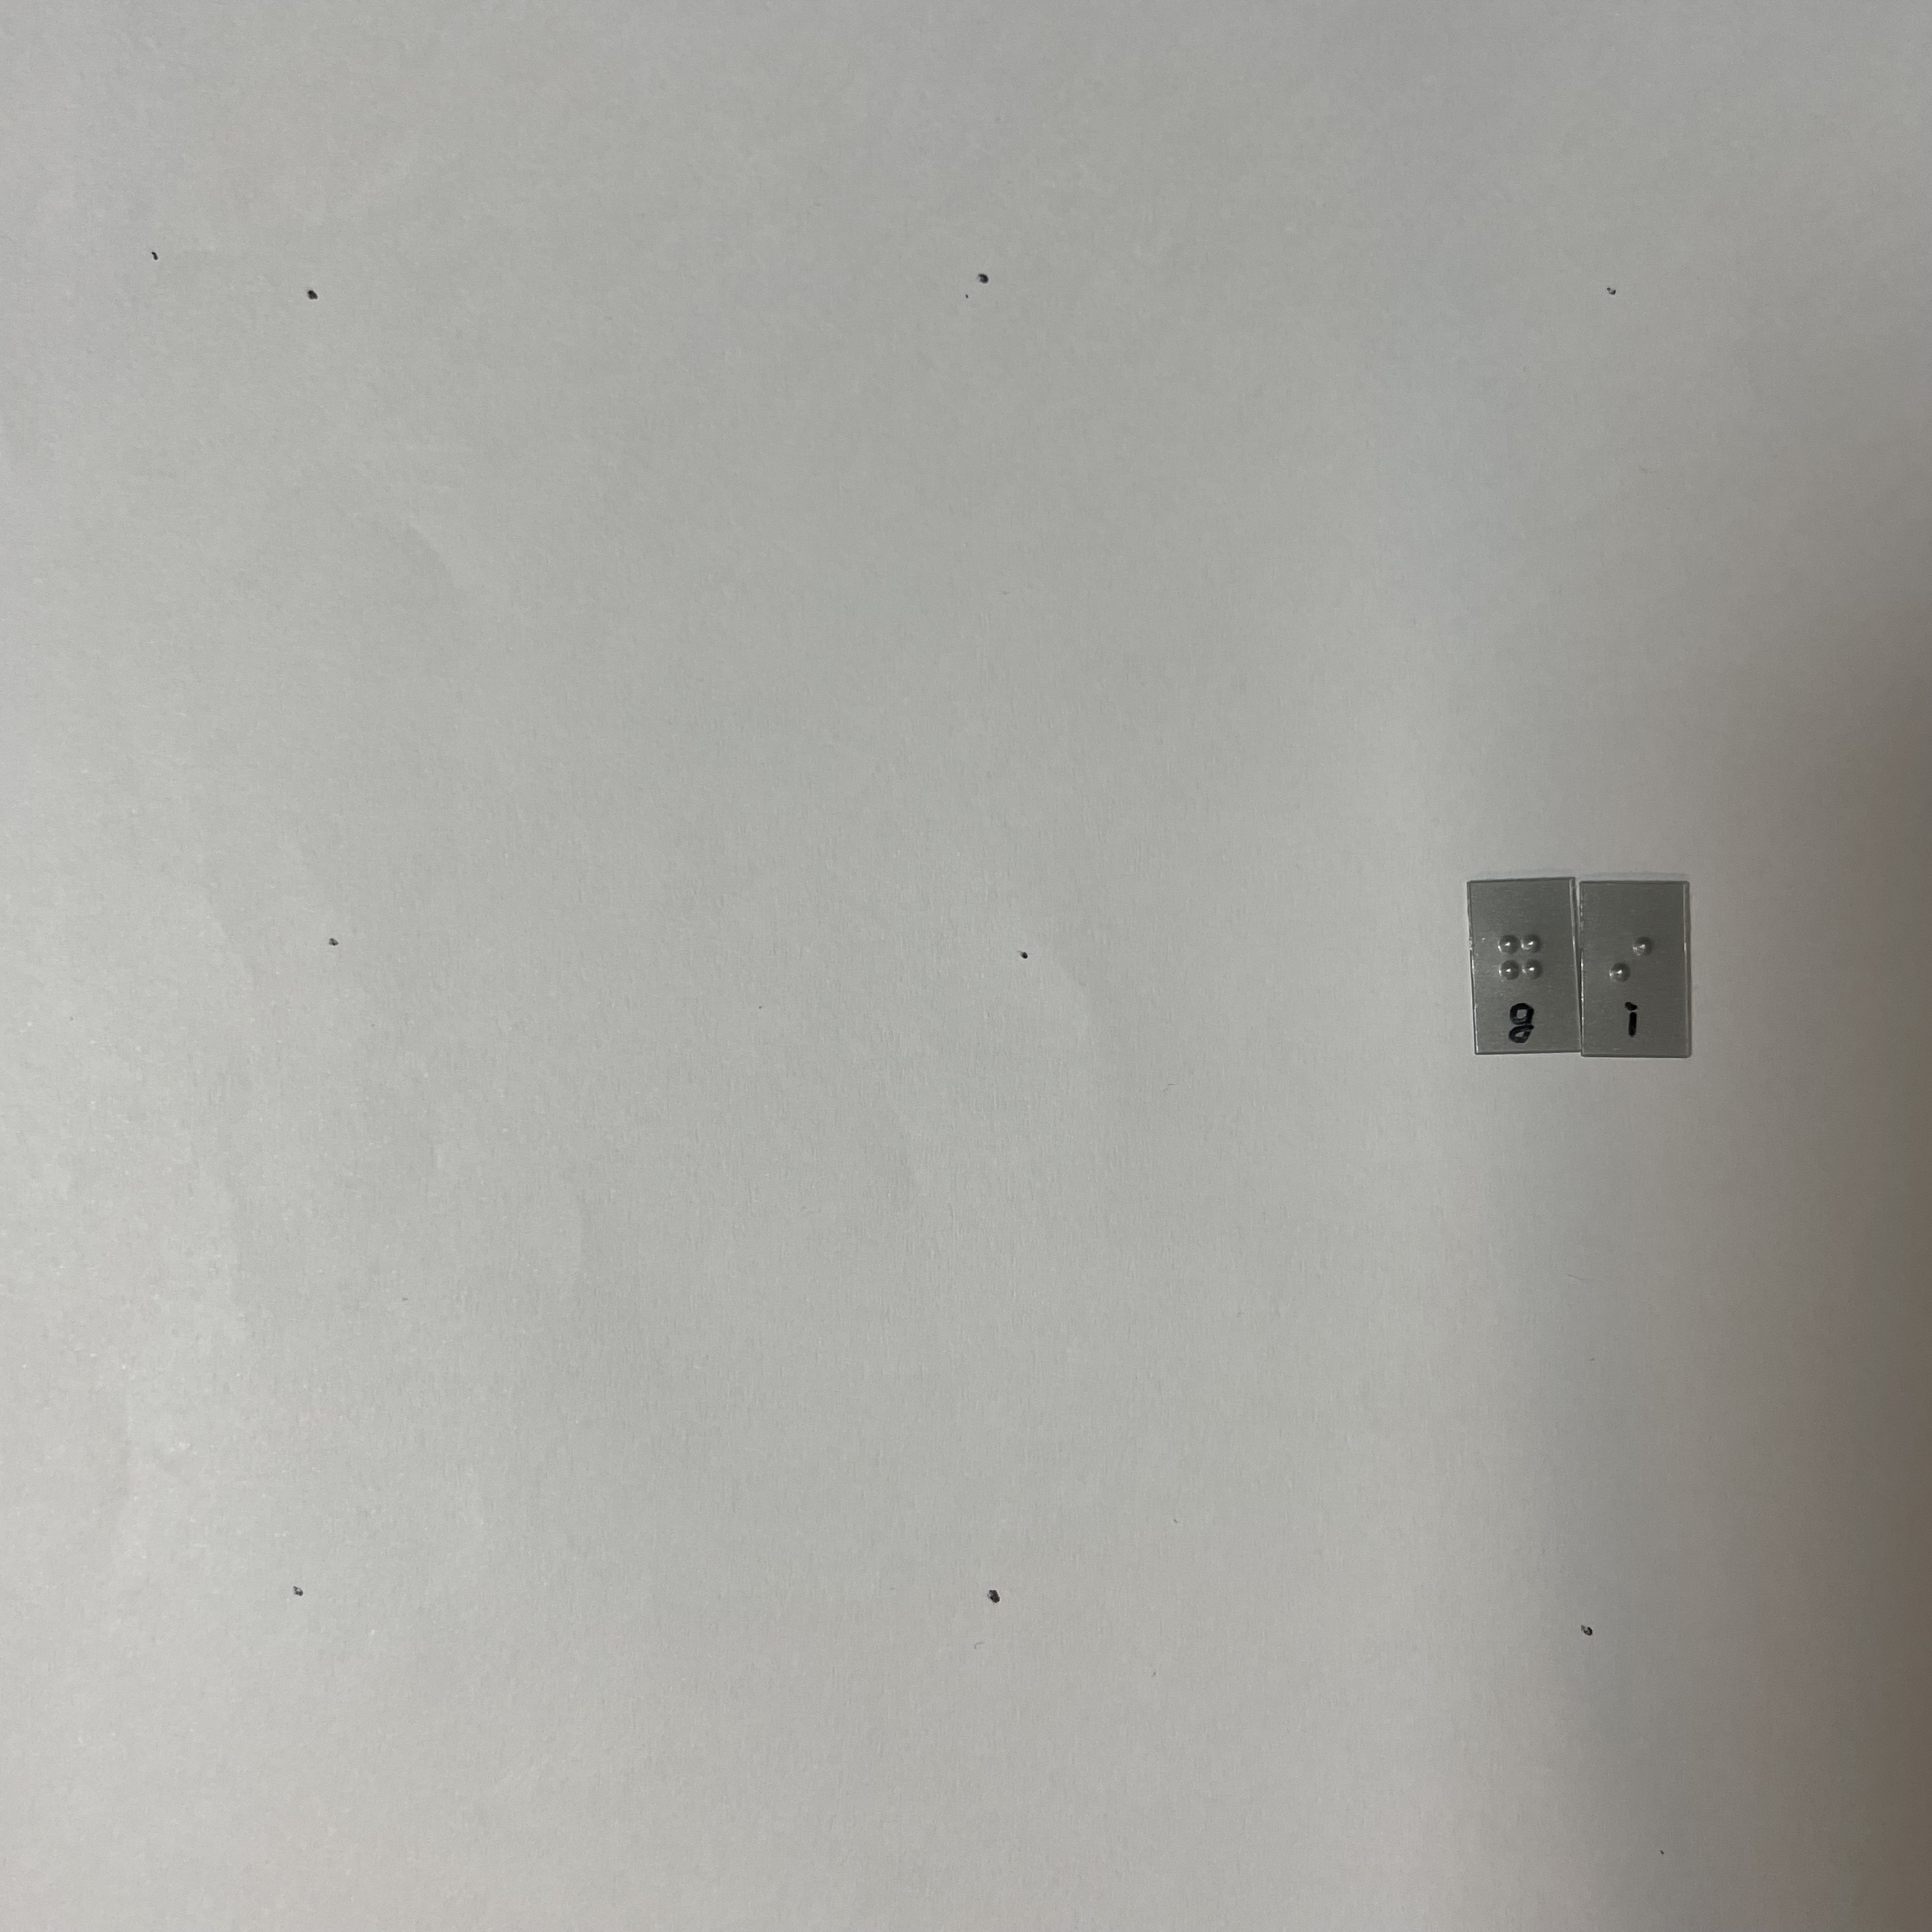g: (1494, 927, 1549, 1000)
i: (1602, 927, 1657, 1002)
